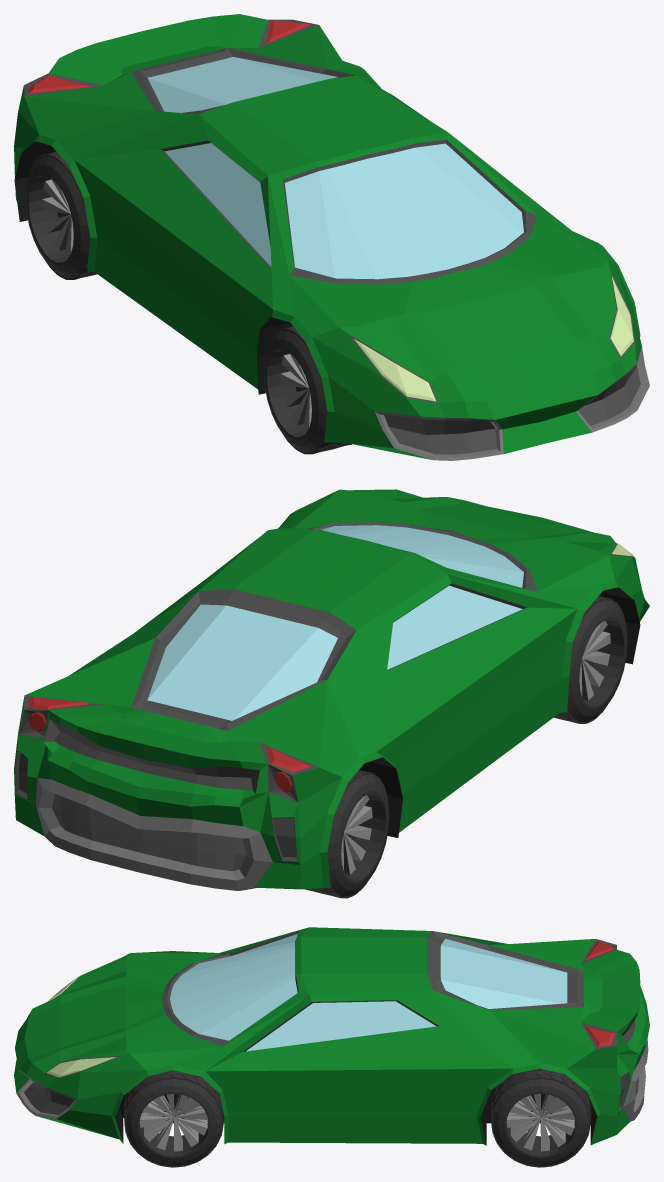
Rendered from Carro.fbx.
The picture shows the model from 3 angles, top to bottom: view 1: azimuth 30°, elevation 25°; view 2: azimuth 150°, elevation 25°; view 3: azimuth 270°, elevation 25°; orthographic projection. The views are drawn at different scales.
Visible parts, largest first — view 1: Carroceria, RuedaTraseraD, RuedaDelanteraD; view 2: Carroceria, RuedaTraseraD, RuedaDelanteraD; view 3: Carroceria, RuedaTraseraI, RuedaDelanteraI.
Part boxes in pixels (x1,y1,x2,y2): Carroceria: (14, 14, 649, 460); RuedaTraseraD: (25, 151, 96, 279); RuedaDelanteraD: (263, 326, 351, 454); Carroceria: (14, 489, 649, 890); RuedaTraseraD: (305, 770, 389, 898); RuedaDelanteraD: (554, 596, 627, 723); Carroceria: (14, 927, 649, 1145); RuedaTraseraI: (491, 1068, 590, 1167); RuedaDelanteraI: (124, 1070, 223, 1167).
Size of the model in its own units: 654 by 407 by 1495.
